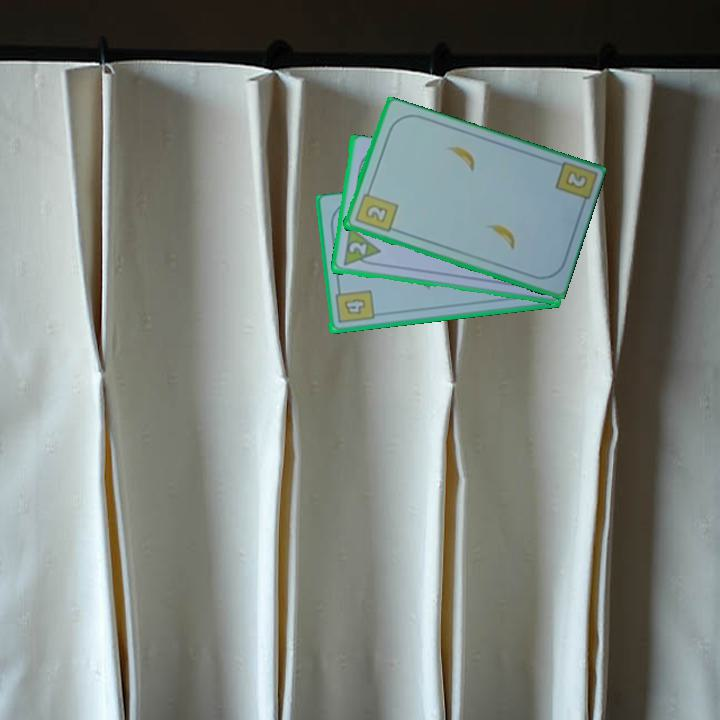2b: (351, 185, 400, 235), (561, 167, 590, 192)
2p: (339, 225, 383, 269)
4b: (331, 283, 376, 326)
